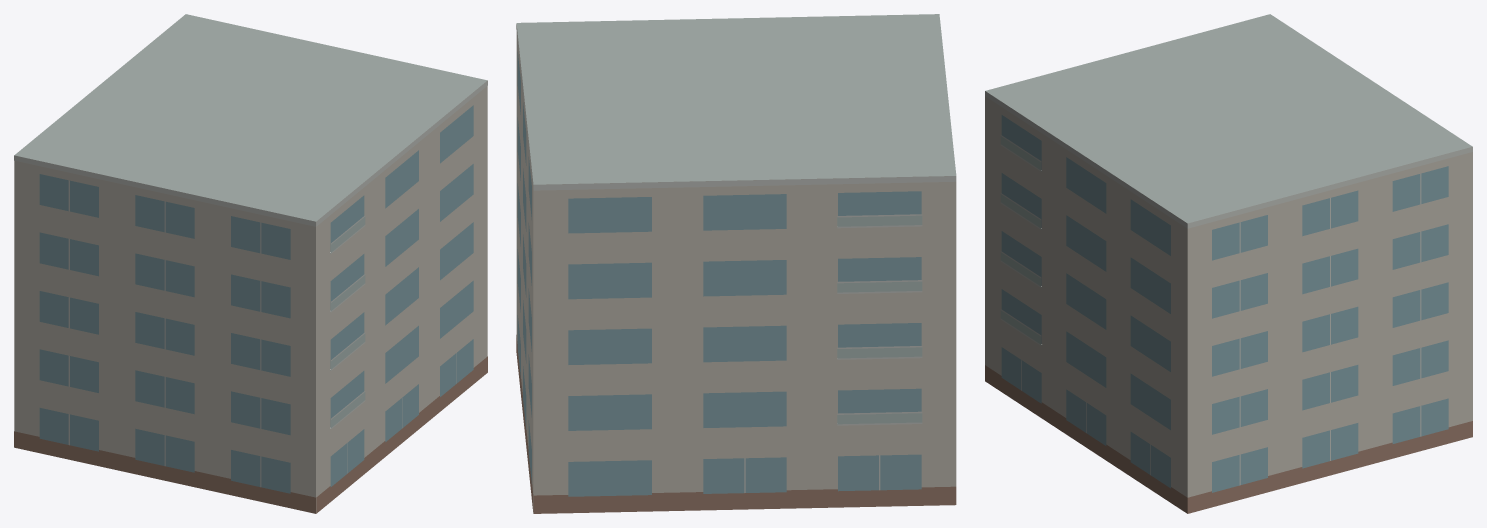
Rendered from survey-upis-32740574.glb.
3 renders of one model, left to right at view 1: azimuth 30°, elevation 25°; view 2: azimuth 150°, elevation 25°; view 3: azimuth 270°, elevation 25°, orthographic. The views are drawn at different scales.
Visible parts, largest first — view 1: survey-upis-32740574.tmp; view 2: survey-upis-32740574.tmp; view 3: survey-upis-32740574.tmp.
Part boxes in pixels (left/top/right/bottom): survey-upis-32740574.tmp: left=14, top=14, right=487, bottom=513; survey-upis-32740574.tmp: left=516, top=14, right=956, bottom=513; survey-upis-32740574.tmp: left=985, top=14, right=1472, bottom=513.
Bounding box in the file's own units: 21.05 × 13.6 × 20.71.
